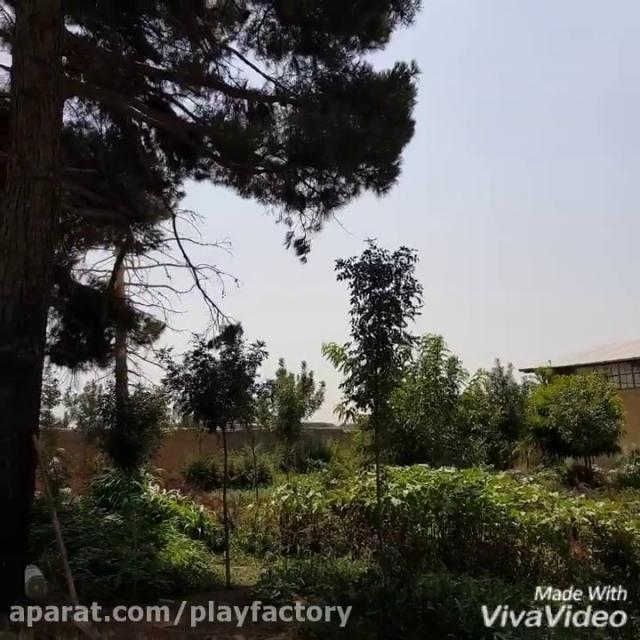drone: (358, 231, 380, 245)
